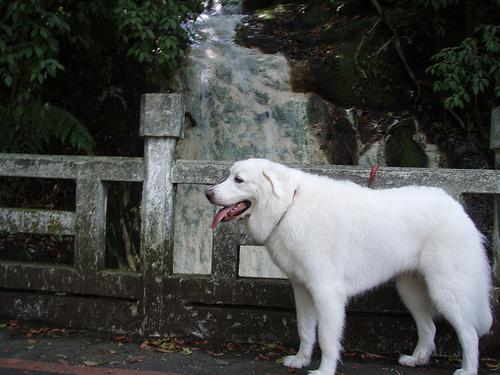Great_Pyrenees: (203, 157, 493, 374)
